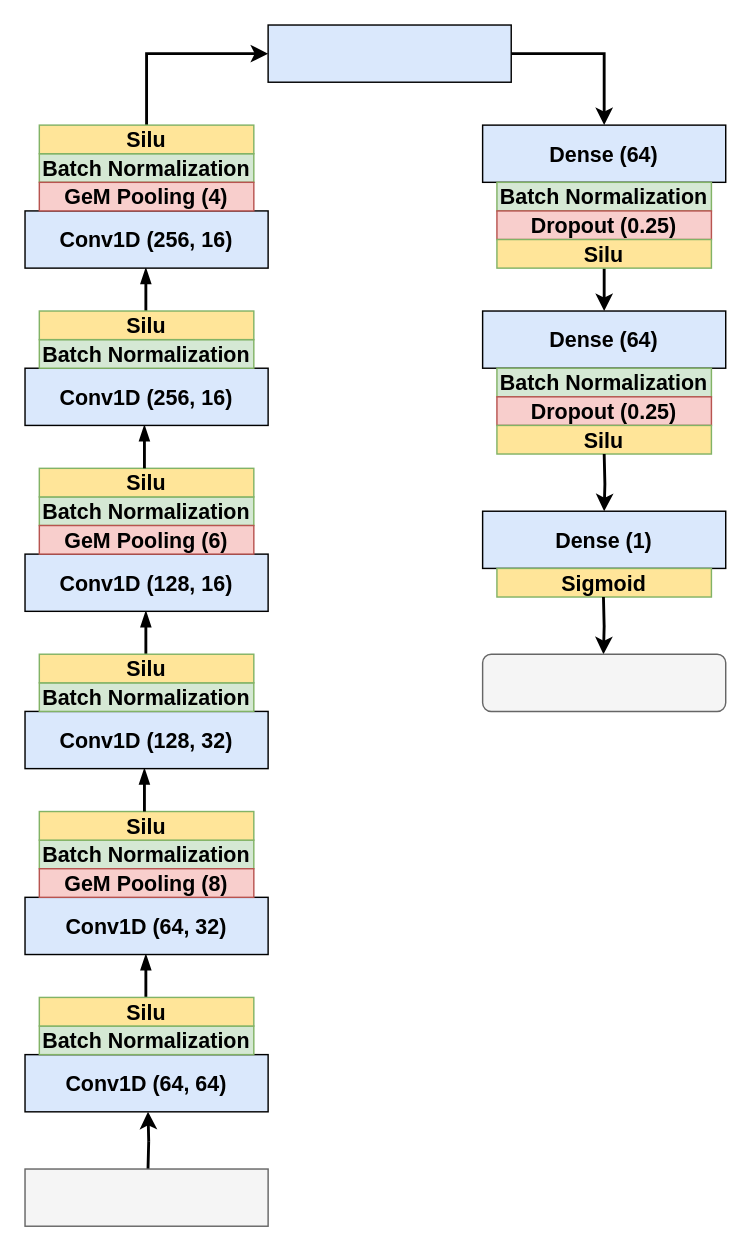
Some shapes in this 751 by 1251 pixel diagram are drawn without their labels. Each missing label, with the centre of its shape:
"Flatten" goes at (x=389, y=53).
"Input" goes at (x=146, y=1197).
"Probability of y=1" goes at (x=603, y=682).
